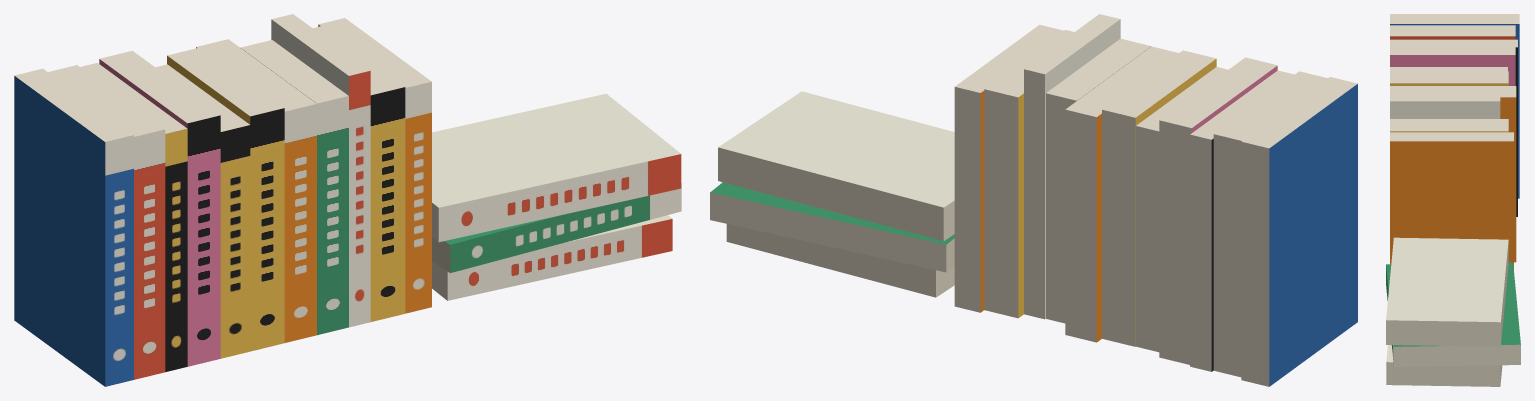
Rendered from obj-books-paperback-row.glb.
3 views of the same model, side by side, from view 1: azimuth 30°, elevation 25°; view 2: azimuth 150°, elevation 25°; view 3: azimuth 270°, elevation 25° (orthographic). The views are drawn at different scales.
Parts seen in each view (by area): view 1: obj-books-paperback-row; view 2: obj-books-paperback-row; view 3: obj-books-paperback-row.
Boxes of the visible parts, <box> form: obj-books-paperback-row: <box>14,14,681,386</box>; obj-books-paperback-row: <box>710,14,1357,386</box>; obj-books-paperback-row: <box>1386,14,1520,386</box>.
Bounding box in the file's own units: 0.477 × 0.1979 × 0.135.
Materials: 1 (1 with a texture image).
